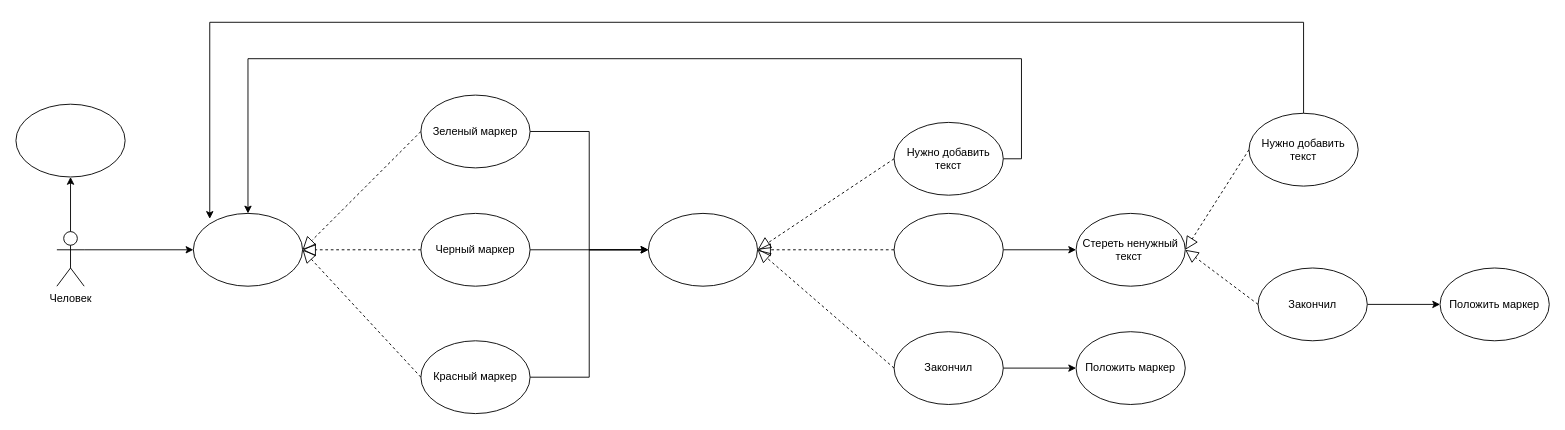
Some shapes in this 1565 by 430 pixel diagram are drawn without their labels. The centre of each missing label's shape, as x and y in pixels:
"Выбрать маркер" belongs at point 247,249.
"Допустил ошибку" belongs at point 948,249.
"Написать текст выбранным цветом" belongs at point 702,249.
"Написать текст нужным цветом" belongs at point 70,140.
